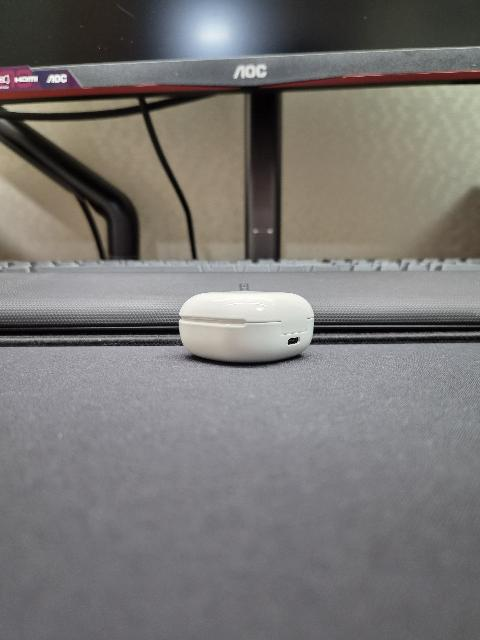earphone_case: (178, 291, 314, 363)
